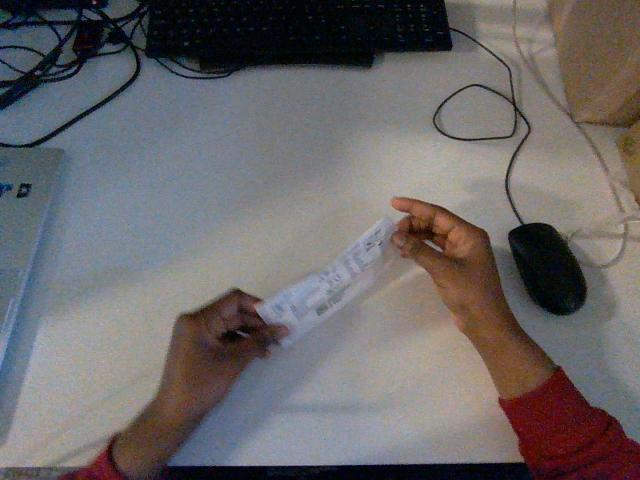syringe: (257, 217, 397, 346)
